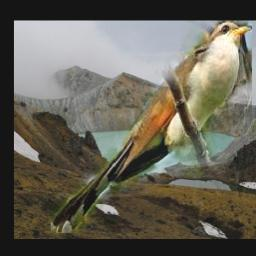Cuckoo: (51, 20, 252, 233)
